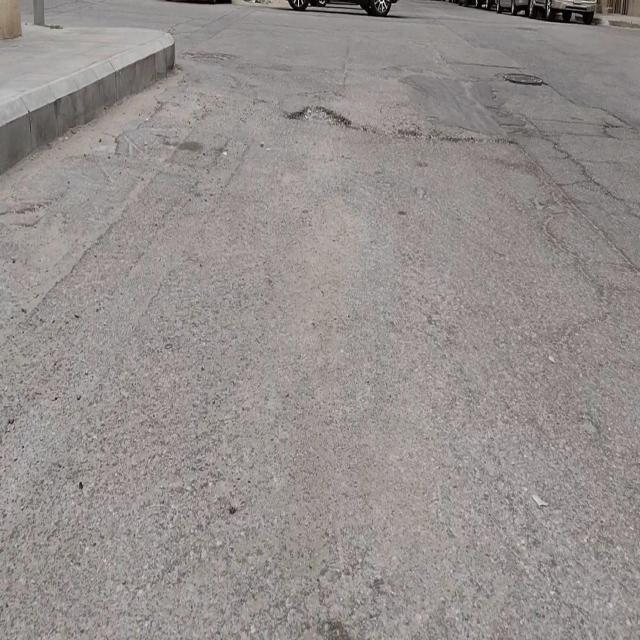Manhole: (504, 72, 544, 84)
Pothole: (287, 103, 352, 128)
